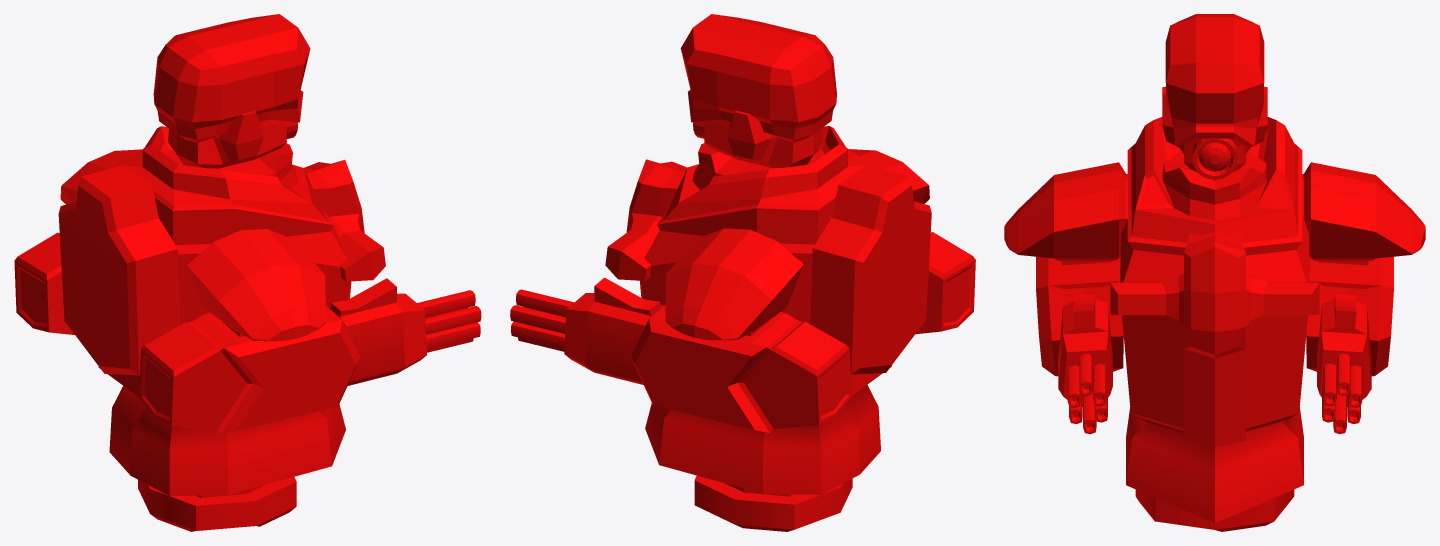
The model's file is Fire_0001.obj.
3 views of the same model, side by side, from view 1: azimuth 30°, elevation 25°; view 2: azimuth 150°, elevation 25°; view 3: azimuth 270°, elevation 25° (orthographic). The views are drawn at different scales.
Parts seen in each view (by area): view 1: polySurface4 pCube58, pCube58 polySurface3; view 2: polySurface4 pCube58, pCube58 polySurface3; view 3: polySurface4 pCube58, pCube58 polySurface3.
Part boxes in pixels (x1,y1,x2,y2): polySurface4 pCube58: [14, 14, 481, 496]; pCube58 polySurface3: [138, 477, 296, 531]; polySurface4 pCube58: [510, 14, 975, 494]; pCube58 polySurface3: [694, 475, 852, 531]; polySurface4 pCube58: [1004, 14, 1425, 523]; pCube58 polySurface3: [1135, 489, 1294, 531].
Size of the model in its own units: 67.47 by 93.57 by 75.54.
